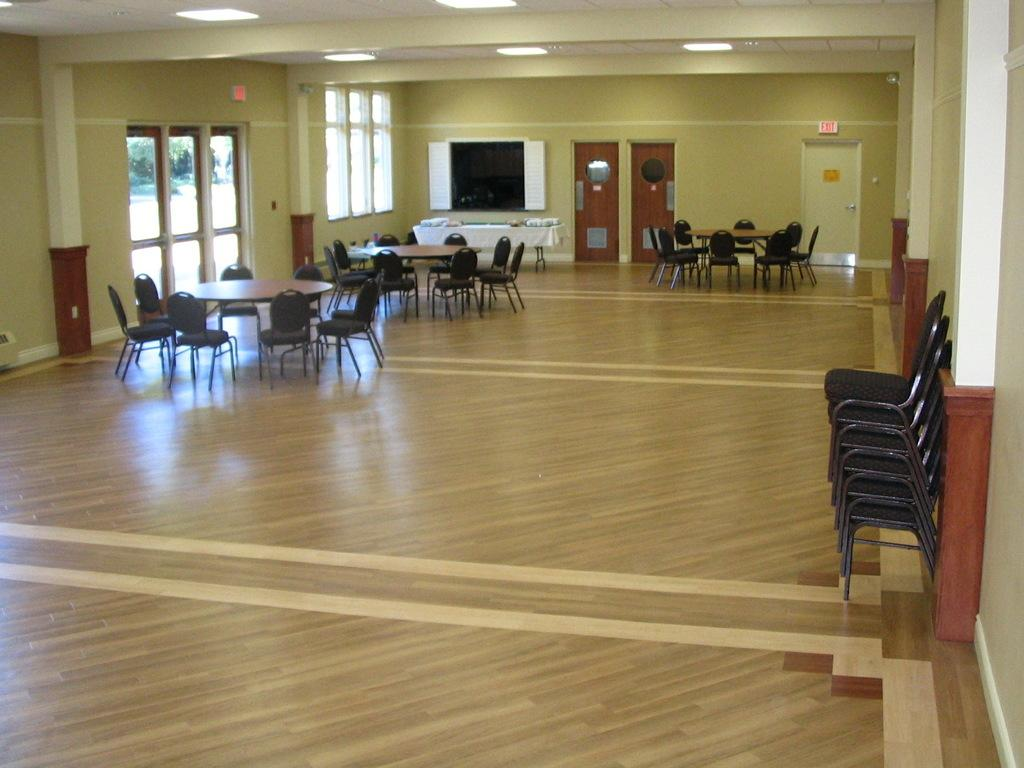Chair: (824, 292, 947, 478), (109, 282, 177, 376), (309, 291, 376, 375), (177, 299, 239, 376), (339, 278, 384, 355), (266, 286, 303, 371), (486, 236, 522, 310), (440, 247, 477, 313), (708, 229, 746, 288), (375, 252, 410, 314), (429, 236, 458, 295), (794, 229, 820, 285), (668, 232, 687, 286), (767, 231, 785, 286), (490, 240, 510, 278), (333, 238, 349, 279)
